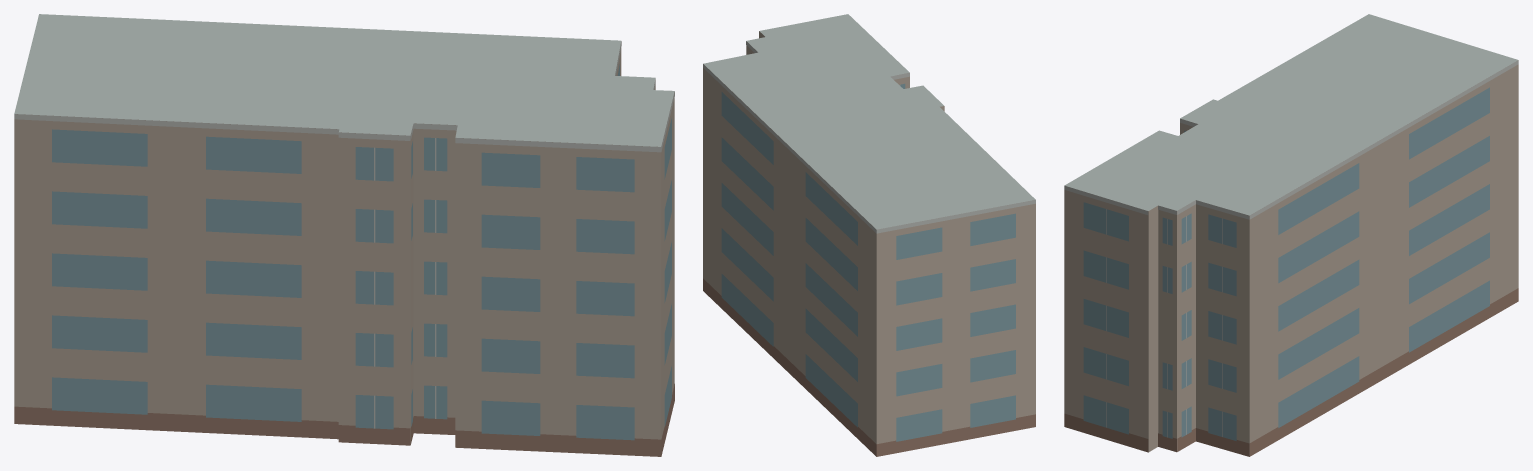
Rendered from survey-upis-32504587.glb.
The picture shows the model from 3 angles, left to right: view 1: azimuth 30°, elevation 25°; view 2: azimuth 150°, elevation 25°; view 3: azimuth 270°, elevation 25°; orthographic projection. The views are drawn at different scales.
Visible parts, largest first — view 1: survey-upis-32504587.tmp; view 2: survey-upis-32504587.tmp; view 3: survey-upis-32504587.tmp.
Part boxes in pixels (x1,y1,x2,y2): survey-upis-32504587.tmp: (14,14,674,456); survey-upis-32504587.tmp: (703,14,1035,456); survey-upis-32504587.tmp: (1064,14,1518,456).
Bounding box in the file's own units: 25.09 × 14 × 23.89.
